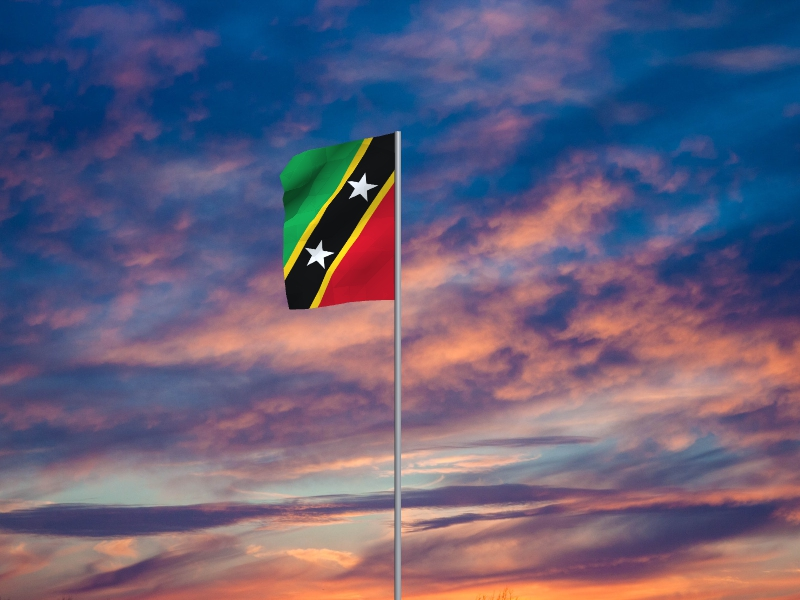kn: (279, 133, 395, 311)
